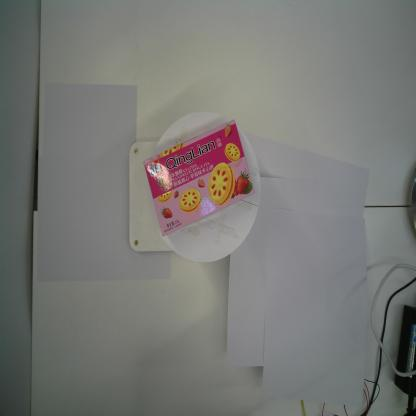Dessert: (142, 118, 256, 236)
